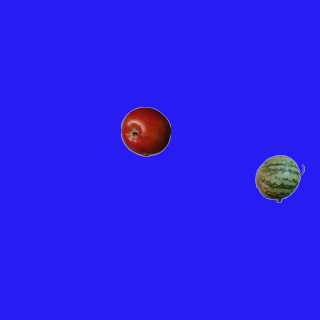Apple Braeburn: (120, 106, 170, 156)
Watermelon: (254, 153, 304, 203)
